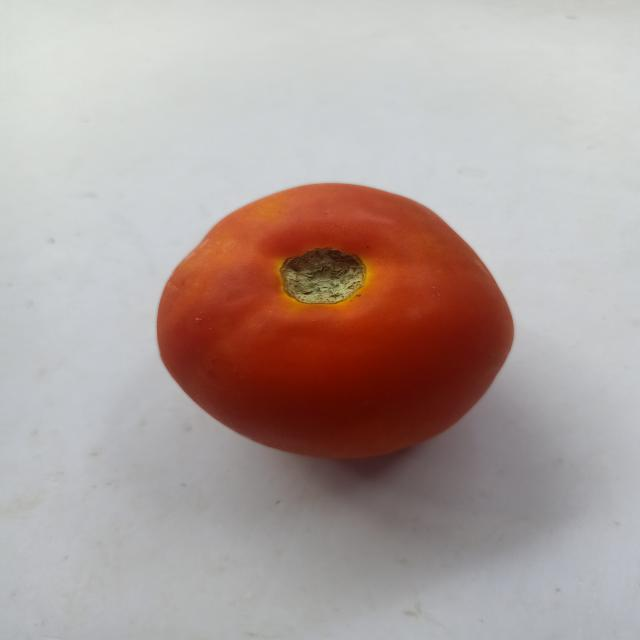Tomato: (133, 175, 546, 492)
